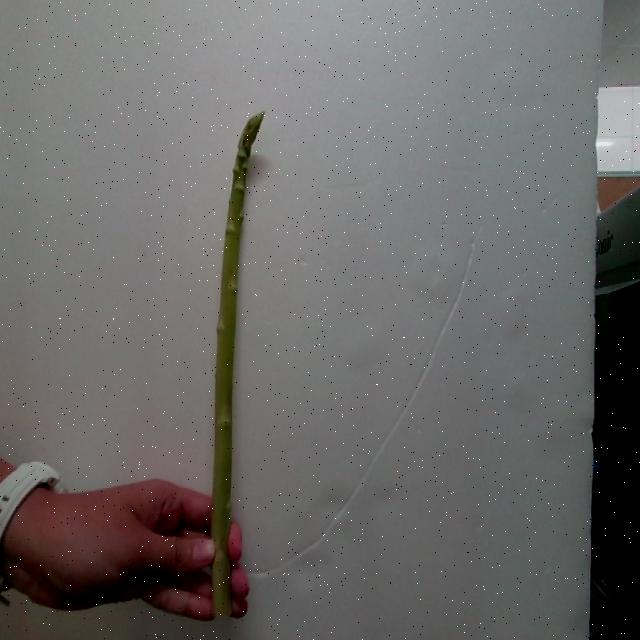aspargus: (212, 113, 264, 620)
